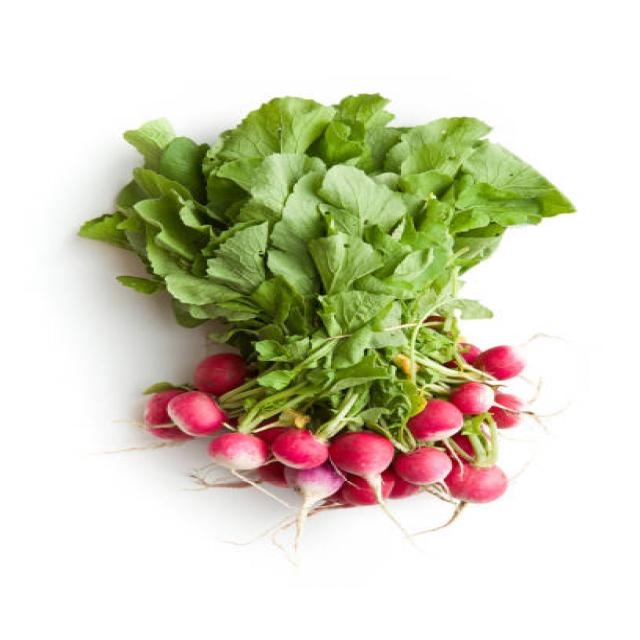spinach: (130, 316, 544, 508)
